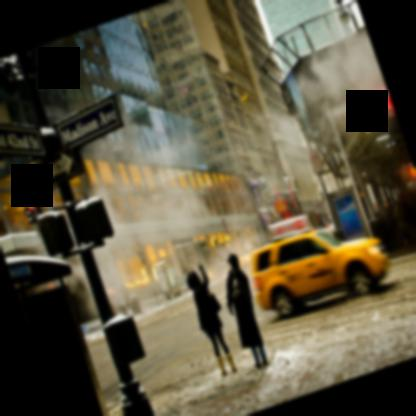handbag: (232, 269, 241, 304), (209, 289, 221, 313)
